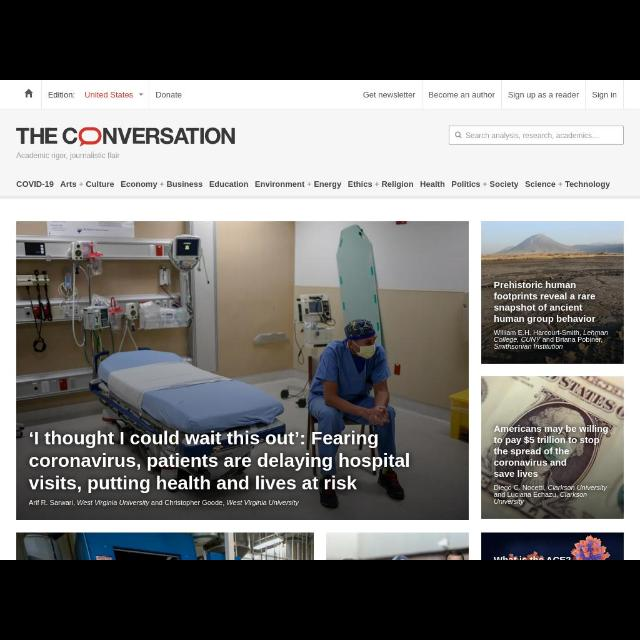icon: (24, 86, 34, 100), (454, 128, 464, 140), (138, 92, 144, 98)
image: (16, 222, 468, 520), (482, 221, 624, 363), (482, 376, 624, 518)
input: (447, 123, 627, 149)
spinner: (82, 85, 144, 106)
text: (16, 124, 238, 148), (466, 131, 602, 141), (15, 149, 124, 161), (255, 178, 343, 190), (508, 89, 582, 103), (450, 176, 520, 190), (526, 179, 612, 189), (120, 180, 204, 190), (346, 180, 416, 190), (360, 88, 416, 100), (59, 179, 117, 189), (428, 92, 496, 100), (84, 90, 134, 98), (209, 179, 249, 189), (16, 178, 54, 188), (47, 90, 77, 102), (154, 88, 184, 100), (590, 88, 618, 100), (419, 178, 446, 190)
toolbar: (1, 112, 639, 196), (1, 80, 639, 110)
